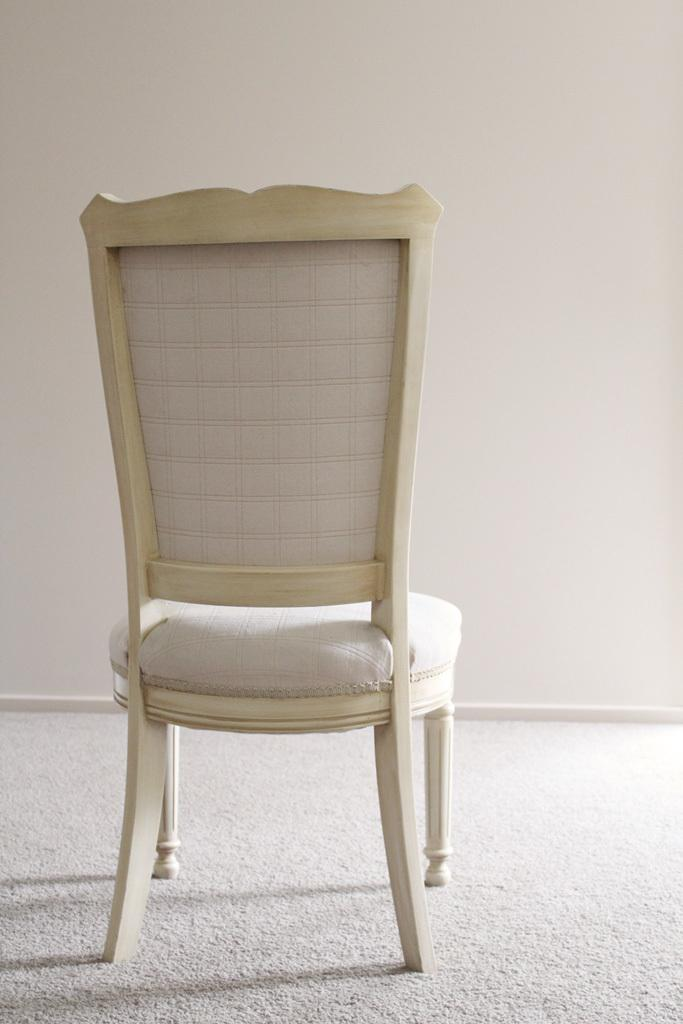Chair: (81, 175, 464, 971)
